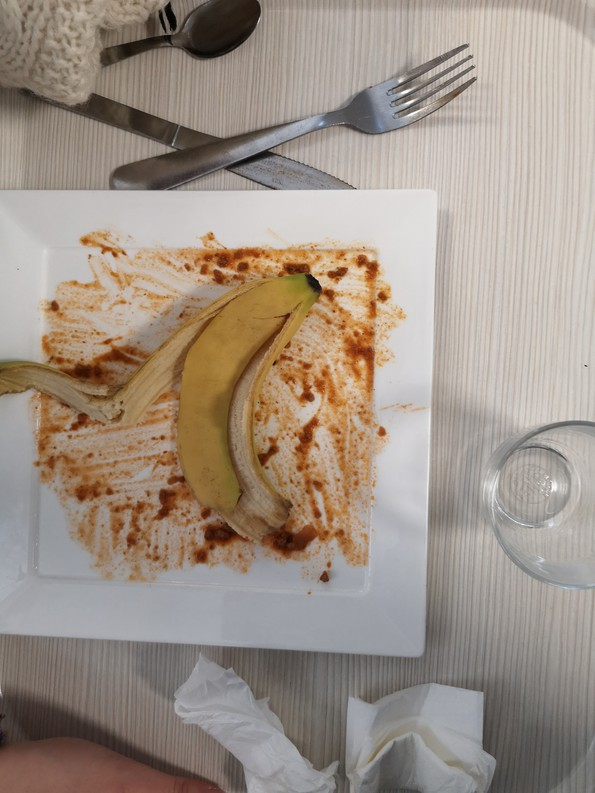cup: (476, 397, 595, 614)
cutlery: (5, 1, 488, 185)
orga: (139, 284, 326, 517)
trash: (187, 656, 497, 793)
